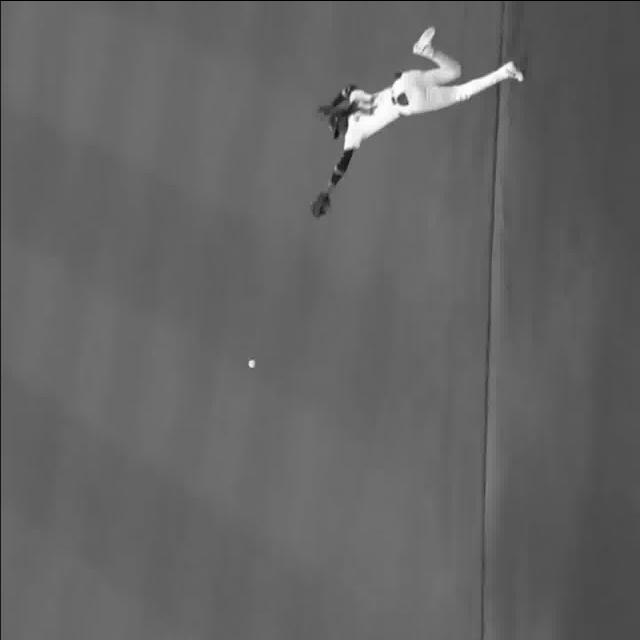baseball: (248, 358, 256, 368)
baseball_glove: (310, 190, 330, 220)
shoe: (412, 26, 438, 56), (500, 61, 526, 80)
